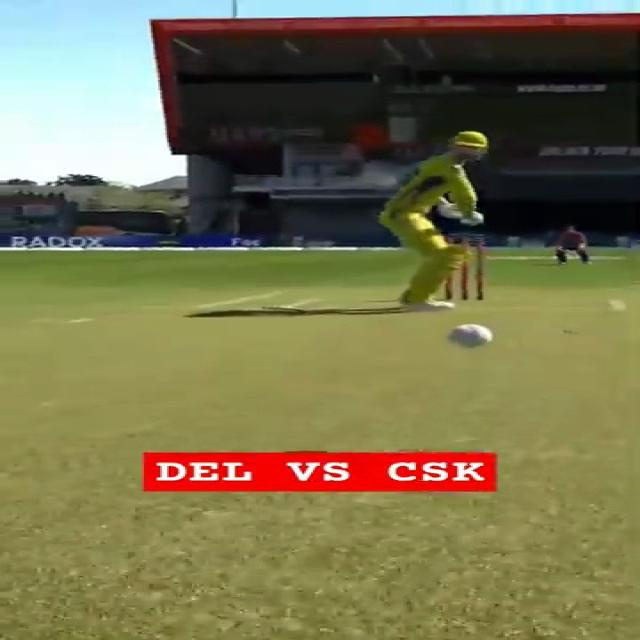ball: (448, 323, 492, 348)
